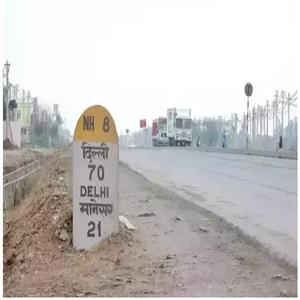kmstone: (66, 106, 123, 250)
